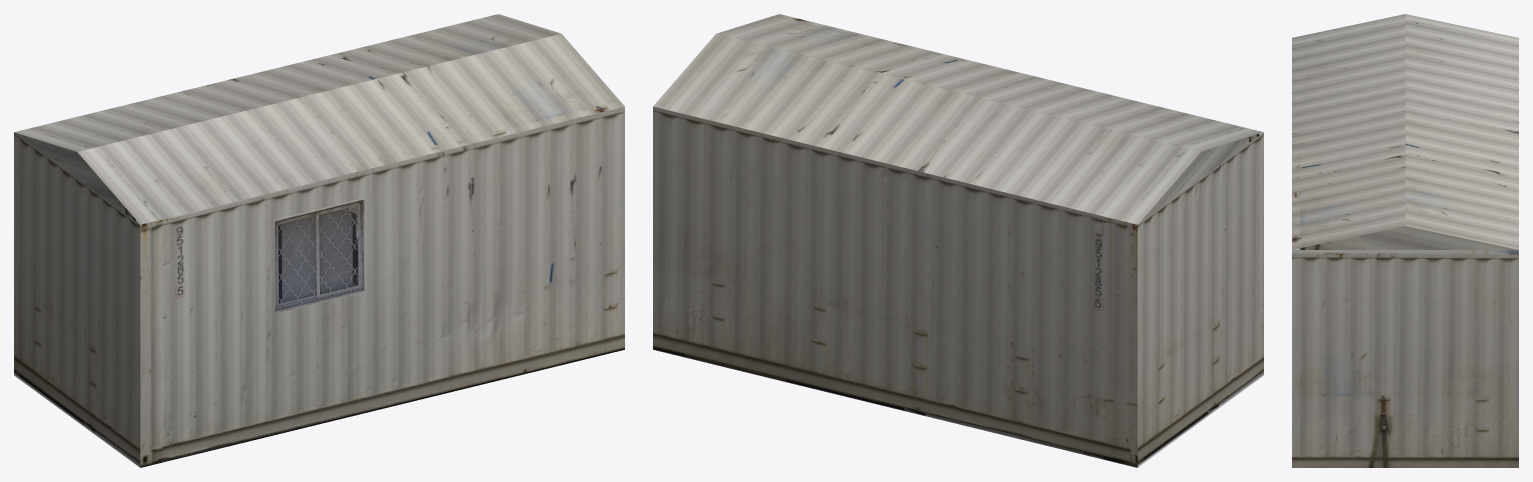
The model's file is LLHA_54container.gltf.
3 renders of one model, left to right at view 1: azimuth 30°, elevation 25°; view 2: azimuth 150°, elevation 25°; view 3: azimuth 270°, elevation 25°, orthographic. The views are drawn at different scales.
Parts seen in each view (by area): view 1: node1; view 2: node1; view 3: node1.
Part boxes in pixels (left/top/right/bottom): node1: left=14, top=14, right=624, bottom=467; node1: left=653, top=14, right=1263, bottom=467; node1: left=1292, top=14, right=1518, bottom=467.
Bounding box in the file's own units: 5.4 × 2.87 × 2.44.
